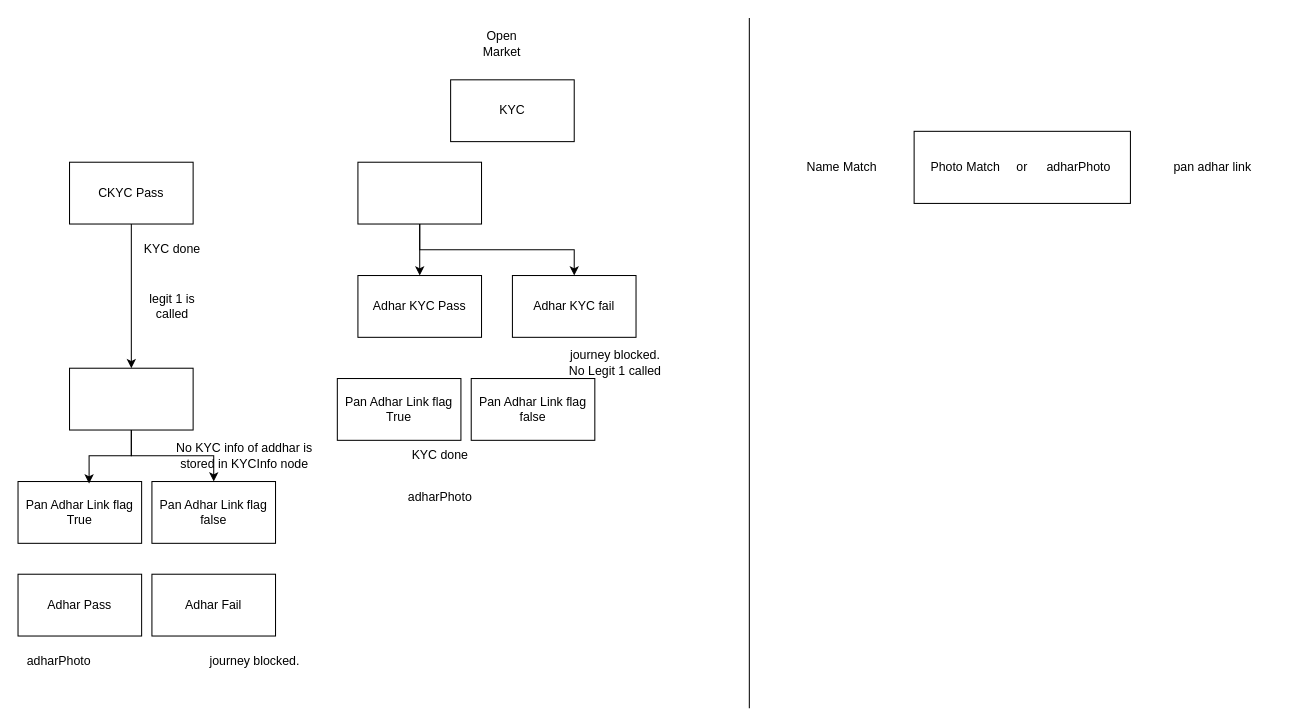
Some shapes in this 1293 by 727 pixel diagram are drawn without their labels. The centre of each missing label's shape, as x and y in pixels:
"Adhar Photo verification" goes at pixel 130 398.
"CKYC fail" goes at pixel 419 192.
